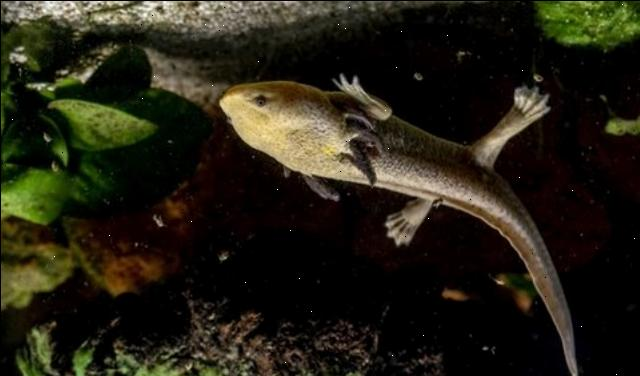Mulut: (210, 70, 250, 111)
Sirip Ekor: (508, 256, 602, 376)
